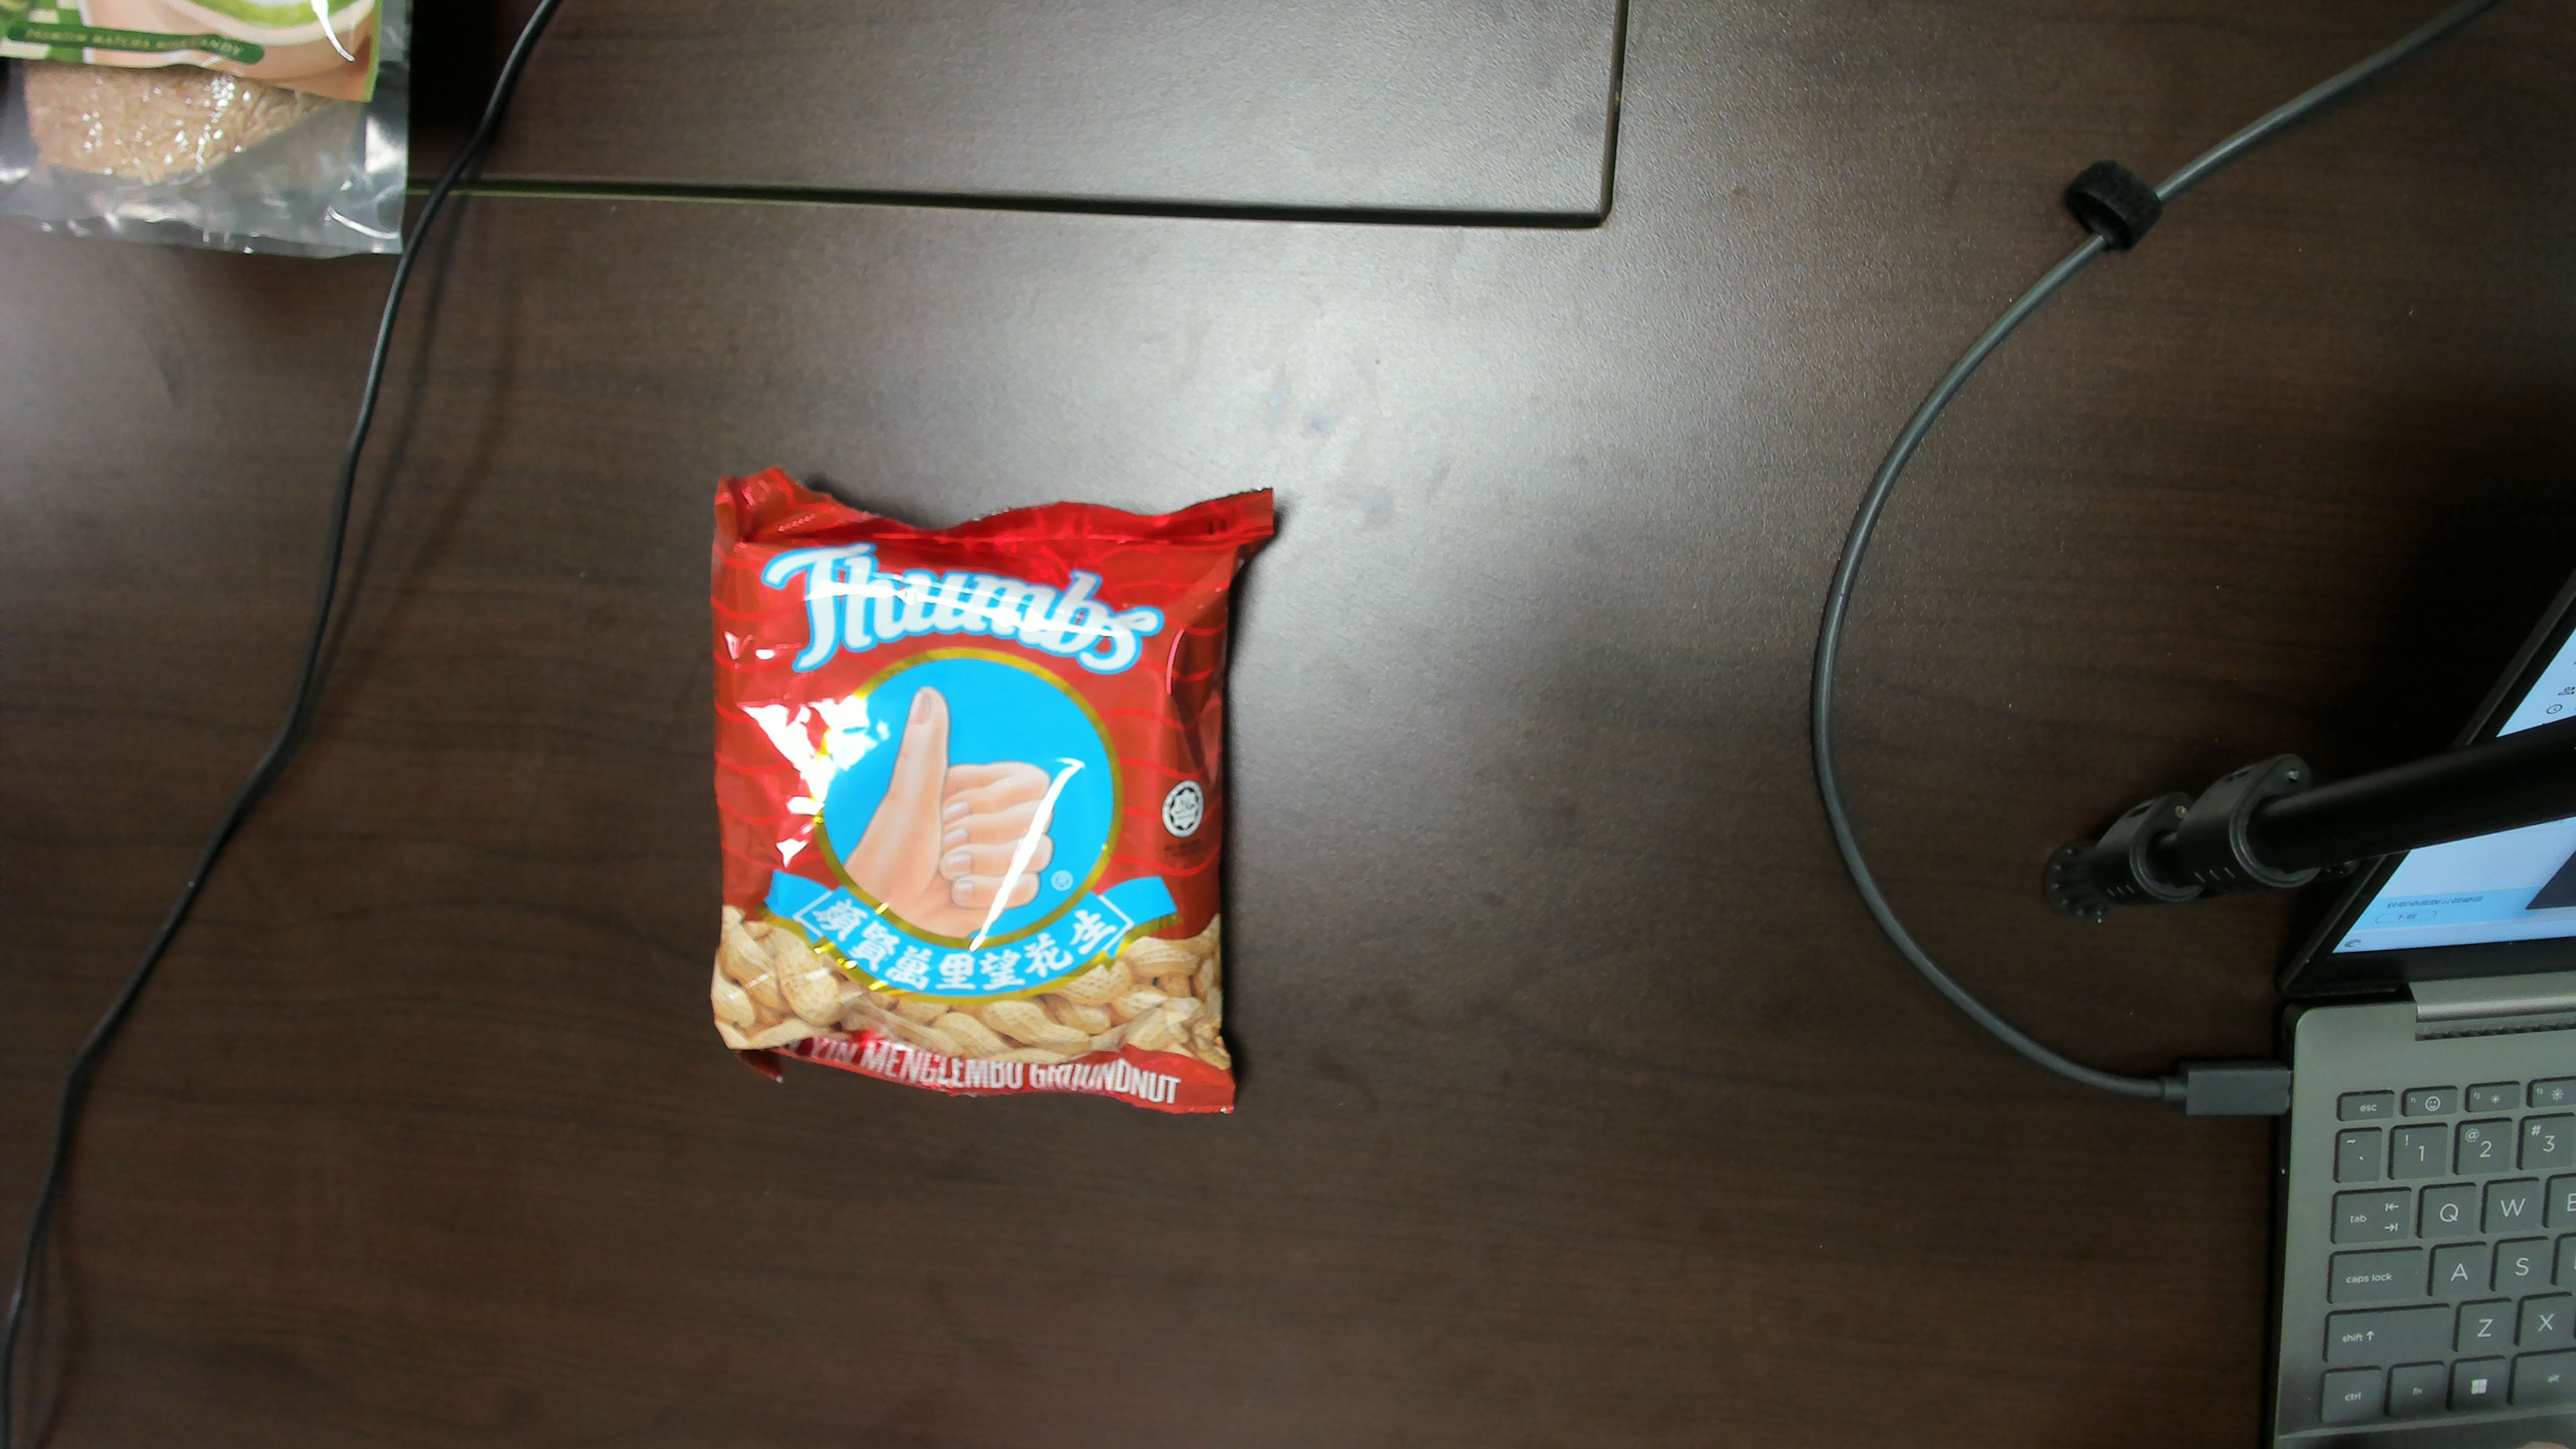Nuts_100-199g_Halal_NonHealthy: (745, 533, 1198, 1067)
